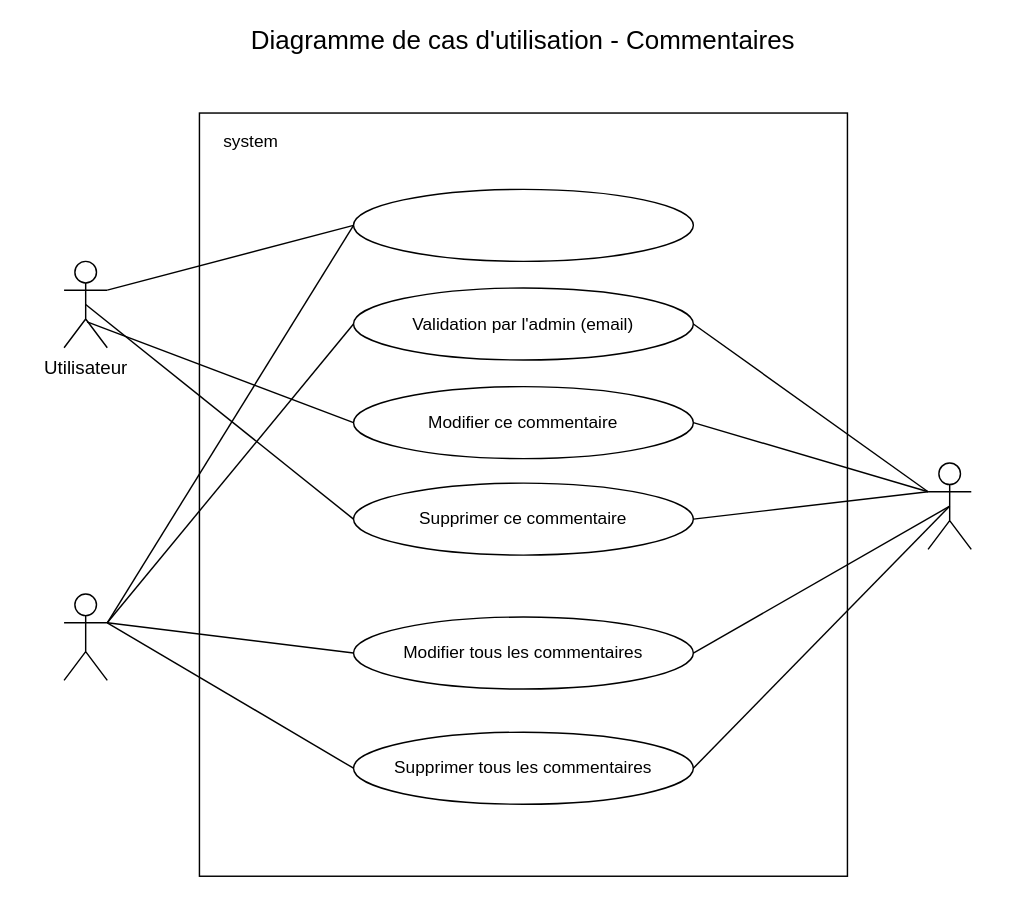
This 1031x901 diagram has some shape labels left out. The shapes that lost their labels are listed below. From the top down, each one's centre as x and y in pixels, then its label:
point 522,224: Ajouter un commentaire
point 949,505: <<systeme>> BDD
point 85,636: Administrateur
